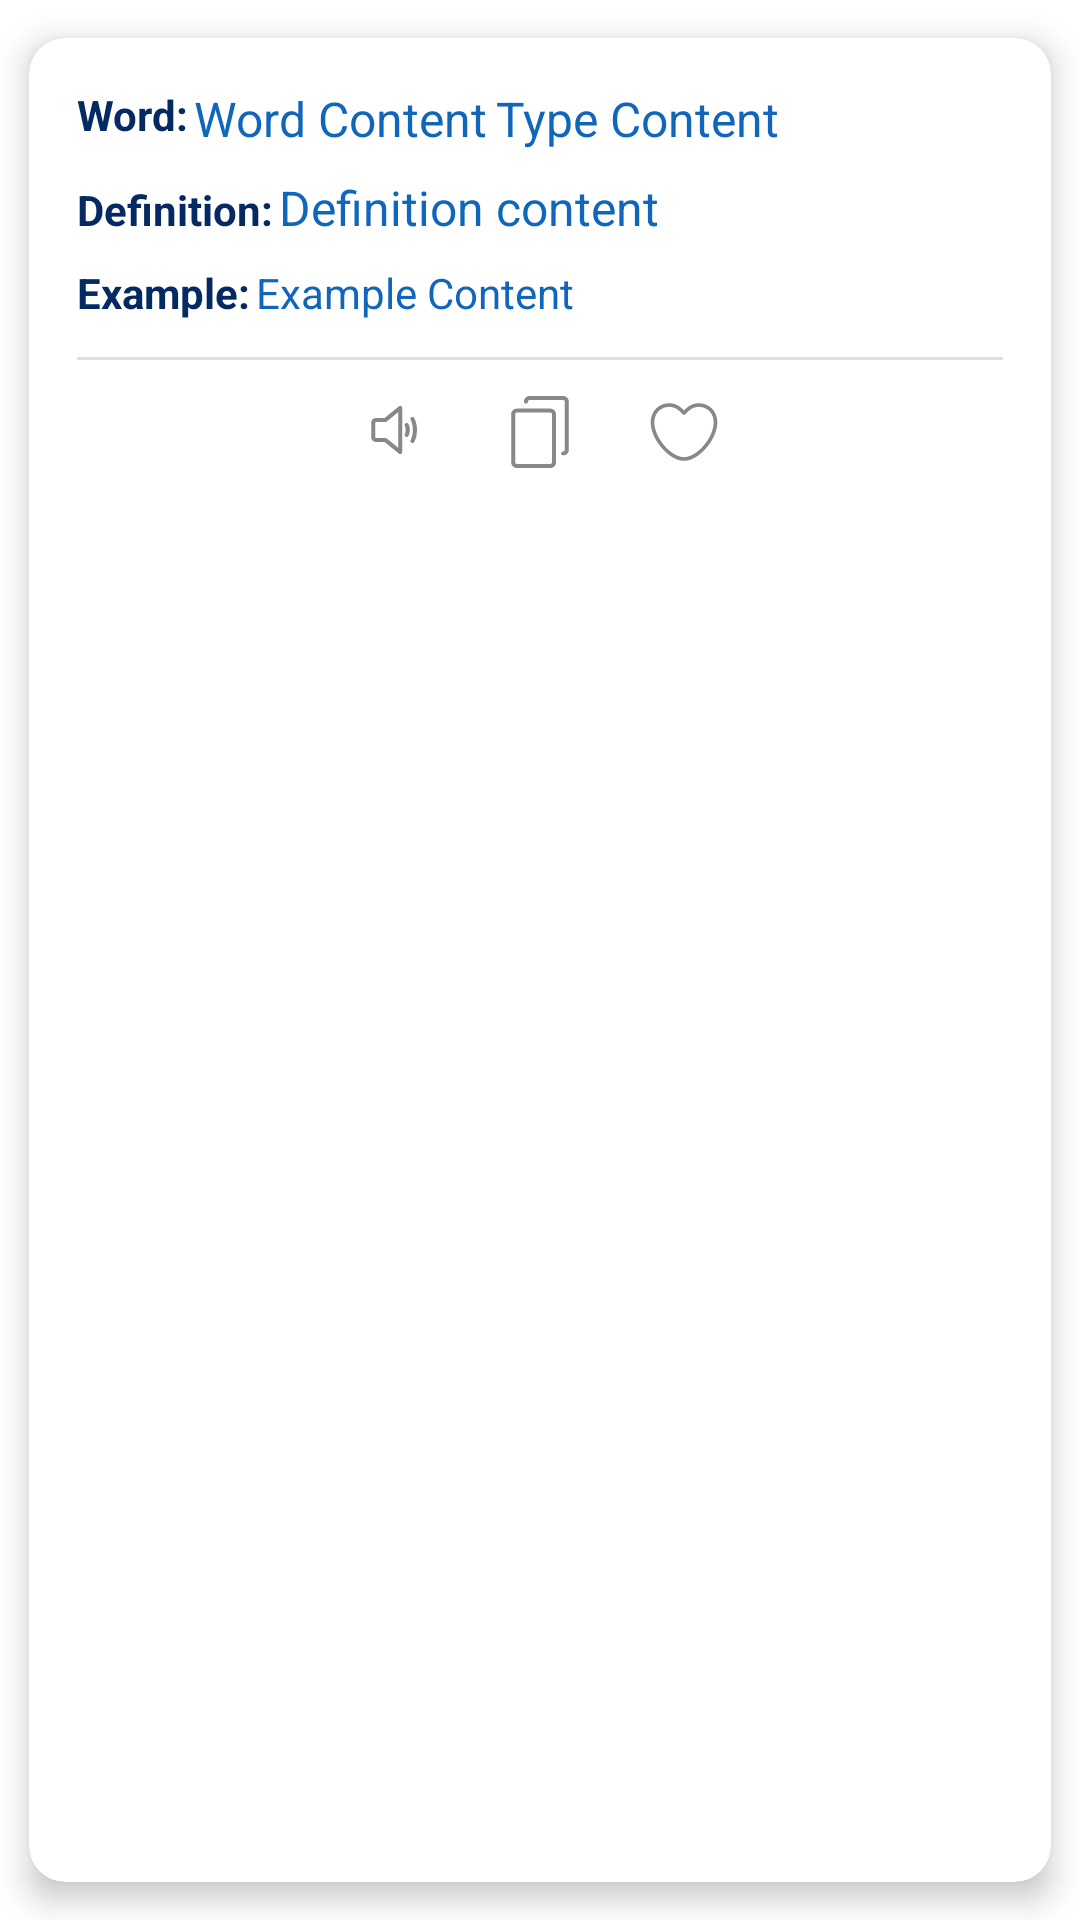

Screen size 1080x1920. Icon name, then its box in pixels as (left=x1, top=y1, right=x2, bottom=y2):
favorite: (left=650, top=403, right=718, bottom=461)
speaker: (left=371, top=406, right=417, bottom=454)
